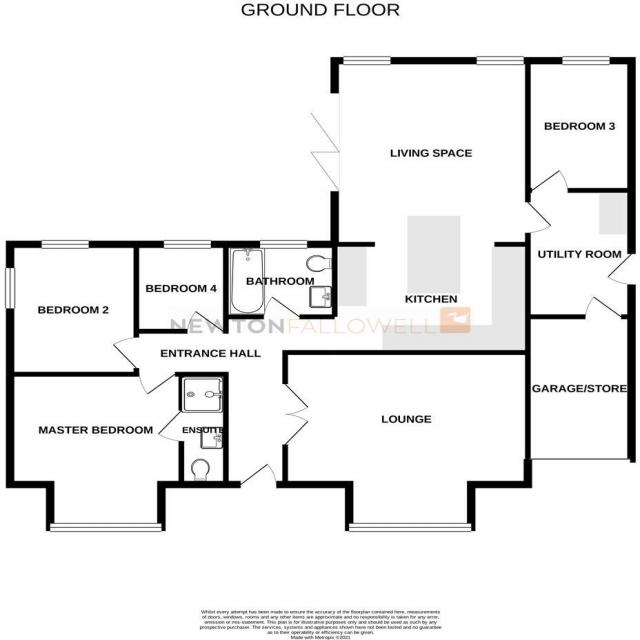DOOR: (239, 461, 279, 488), (110, 335, 140, 369), (606, 252, 636, 285), (155, 409, 184, 443), (262, 295, 301, 320), (525, 200, 553, 234), (530, 169, 569, 193), (137, 372, 176, 396), (584, 295, 622, 319), (185, 310, 224, 333)
DOUBLE DOOR: (282, 378, 312, 447)
FOLDING DOOR: (303, 93, 341, 193)
ROOM: (138, 55, 554, 488), (5, 371, 185, 532), (5, 240, 140, 377), (524, 57, 636, 194), (133, 240, 229, 334)
WINDOW: (49, 523, 163, 533), (348, 523, 471, 532), (343, 55, 391, 66), (4, 267, 16, 309), (41, 239, 90, 249), (259, 239, 308, 249), (163, 239, 211, 249), (475, 56, 525, 65), (562, 56, 611, 65)
